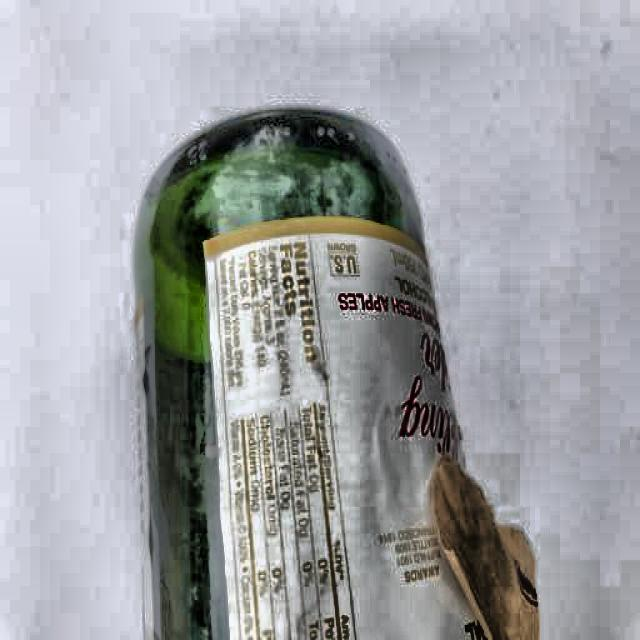glass: (131, 104, 510, 640)
